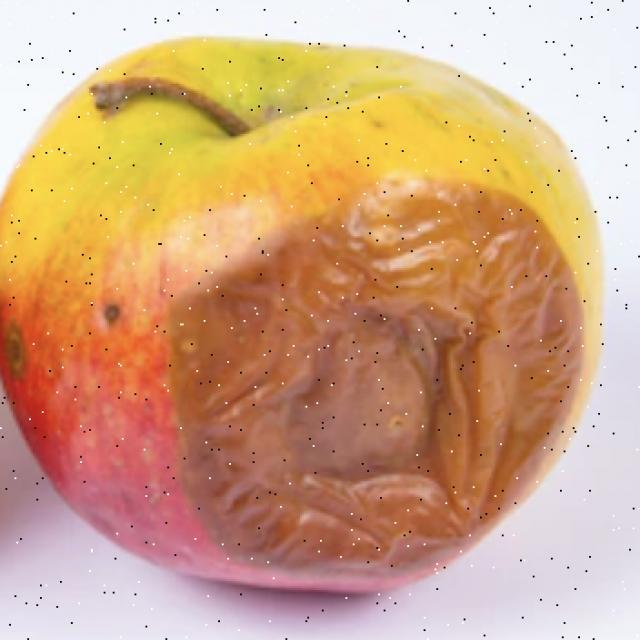Rotten: (34, 26, 598, 602)
